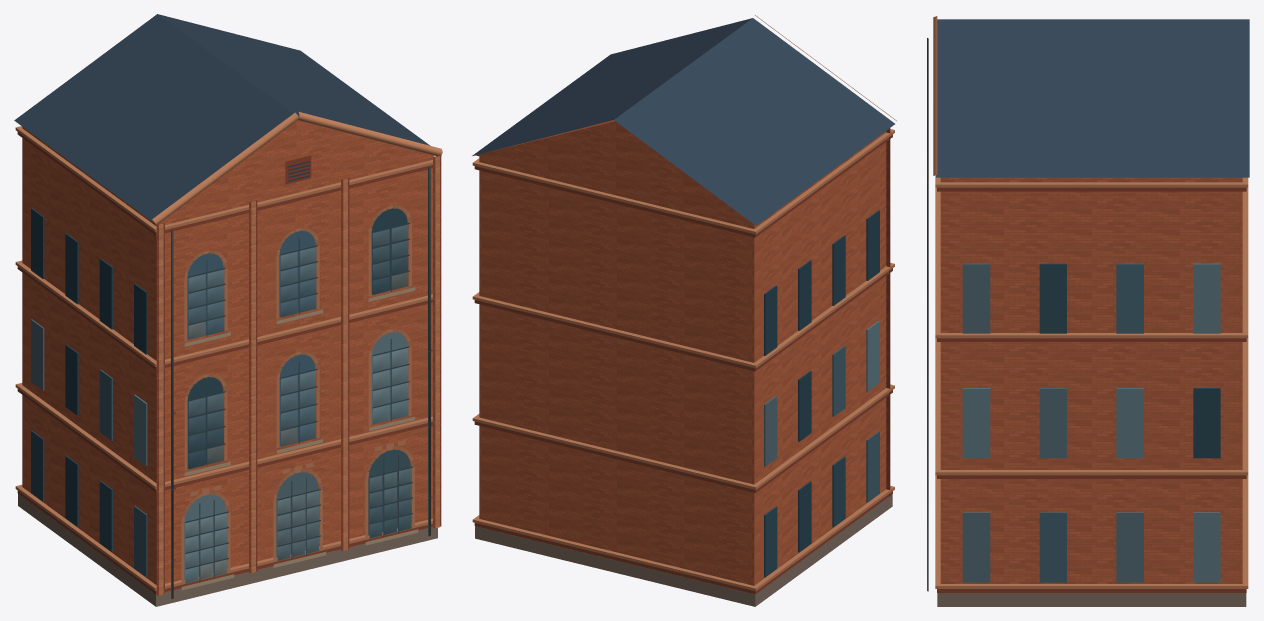
The model's file is brick-mill-gable-distance.glb.
3 renders of one model, left to right at view 1: azimuth 30°, elevation 25°; view 2: azimuth 150°, elevation 25°; view 3: azimuth 270°, elevation 25°, orthographic. The views are drawn at different scales.
Visible parts, largest first — view 1: brick-mill-gable-distance; view 2: brick-mill-gable-distance; view 3: brick-mill-gable-distance.
Part boxes in pixels (left/top/right/bottom): brick-mill-gable-distance: left=14, top=14, right=442, bottom=606; brick-mill-gable-distance: left=472, top=15, right=896, bottom=606; brick-mill-gable-distance: left=927, top=16, right=1249, bottom=606.
Bounding box in the file's own units: 13.64 × 20.7 × 11.78.
2 materials, 1 textured.
